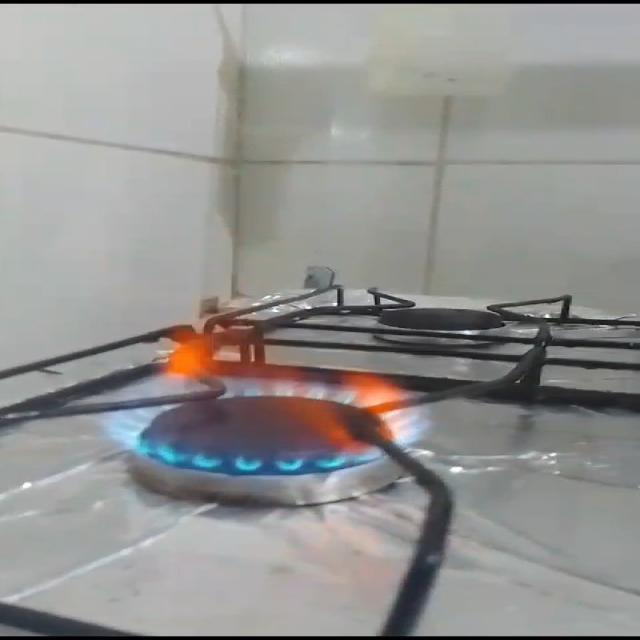fogo-ypXI: (82, 318, 434, 481)
